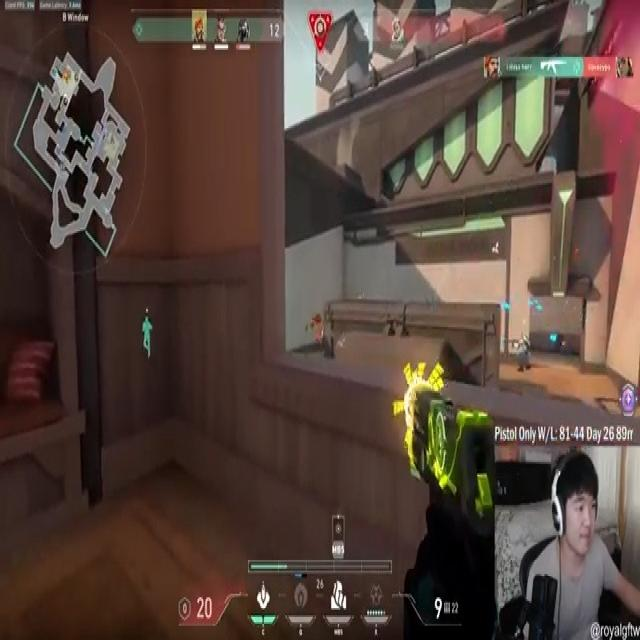ally: (513, 330, 532, 376)
ally behind wall: (140, 315, 154, 361)
